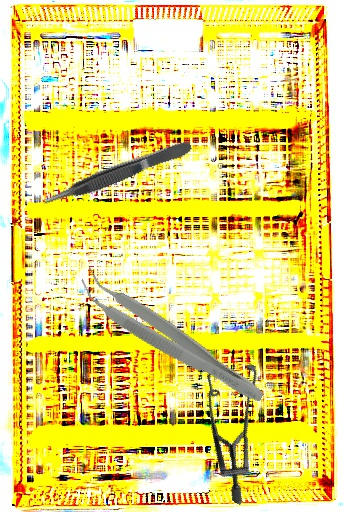Speculum: (153, 344, 305, 506)
Tissue Forceps: (71, 264, 274, 411), (39, 137, 195, 211)
